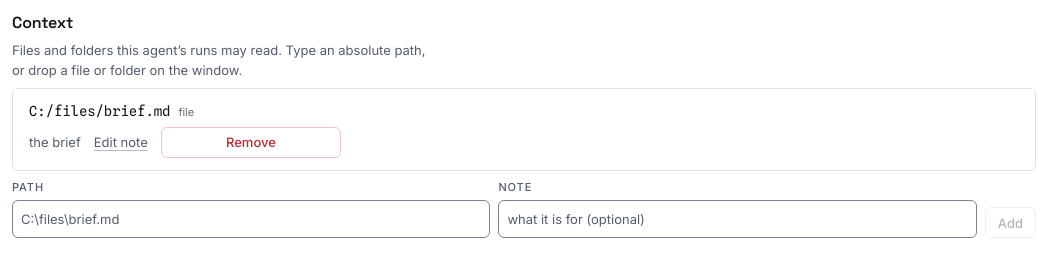
ContextRefs - the owner's context files › edits a note in place and sends only the note
Expected: the text "the brief" is shown, [29,132,81,152]
Click the button "Edit note".
click(121, 142)  # box [89,128,153,156]
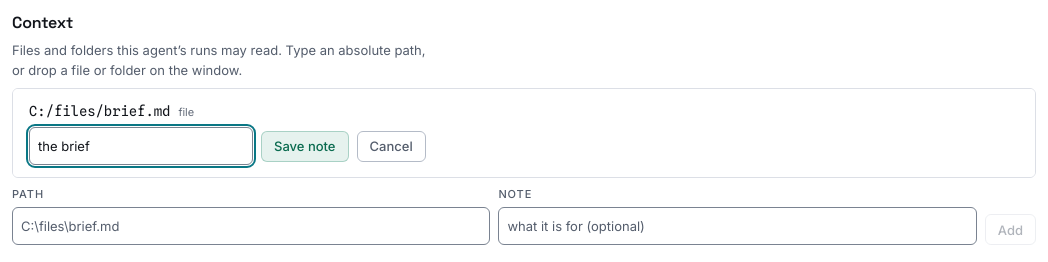
Replace the text in the field named "Note for C:/files/brief.md" with "the new brief" at (141, 146), box [29,127,253,165]
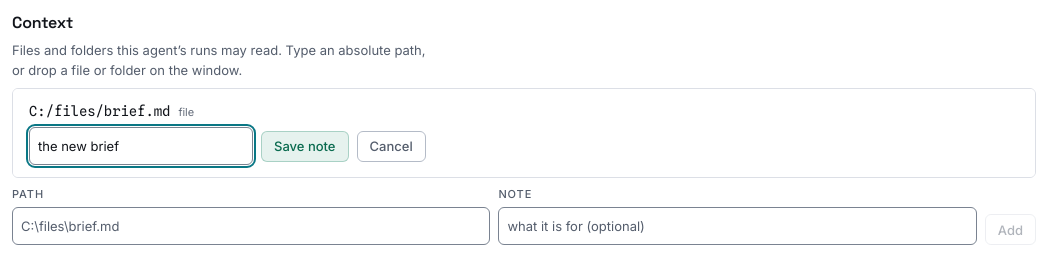
Click the button "Save note".
click(305, 146)  # box [261,130,348,162]
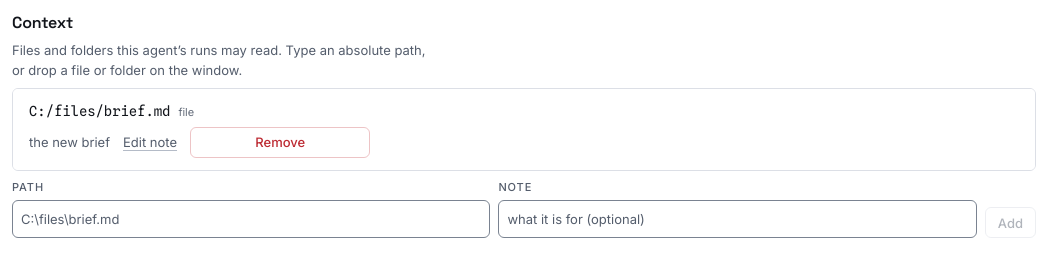
Now the text "the new brief" is shown, box [29,132,110,152]
